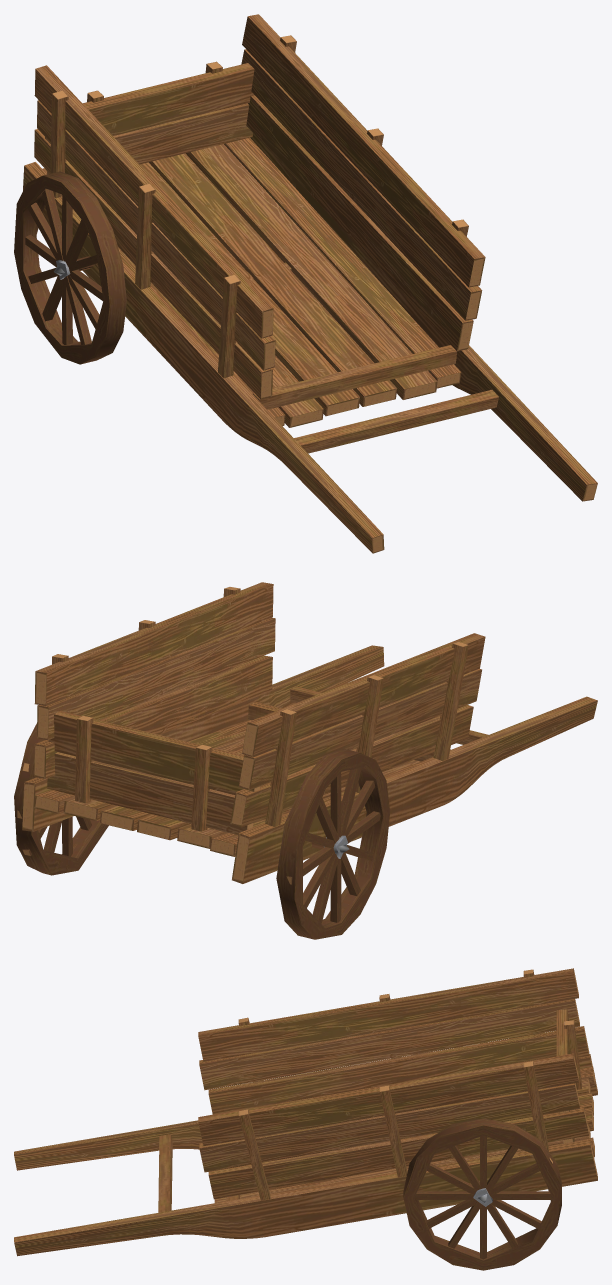
Rendered from wagon.glb.
The picture shows the model from 3 angles, top to bottom: view 1: azimuth 30°, elevation 25°; view 2: azimuth 150°, elevation 25°; view 3: azimuth 270°, elevation 25°; orthographic projection. The views are drawn at different scales.
Visible parts, largest first — view 1: Prop_Wagon; view 2: Prop_Wagon; view 3: Prop_Wagon.
Part boxes in pixels (left/top/right/bottom): Prop_Wagon: left=14, top=14, right=597, bottom=553; Prop_Wagon: left=14, top=582, right=597, bottom=939; Prop_Wagon: left=14, top=968, right=597, bottom=1270.
Bounding box in the file's own units: 1.95 × 1.53 × 4.02.
1 material, 1 textured.
